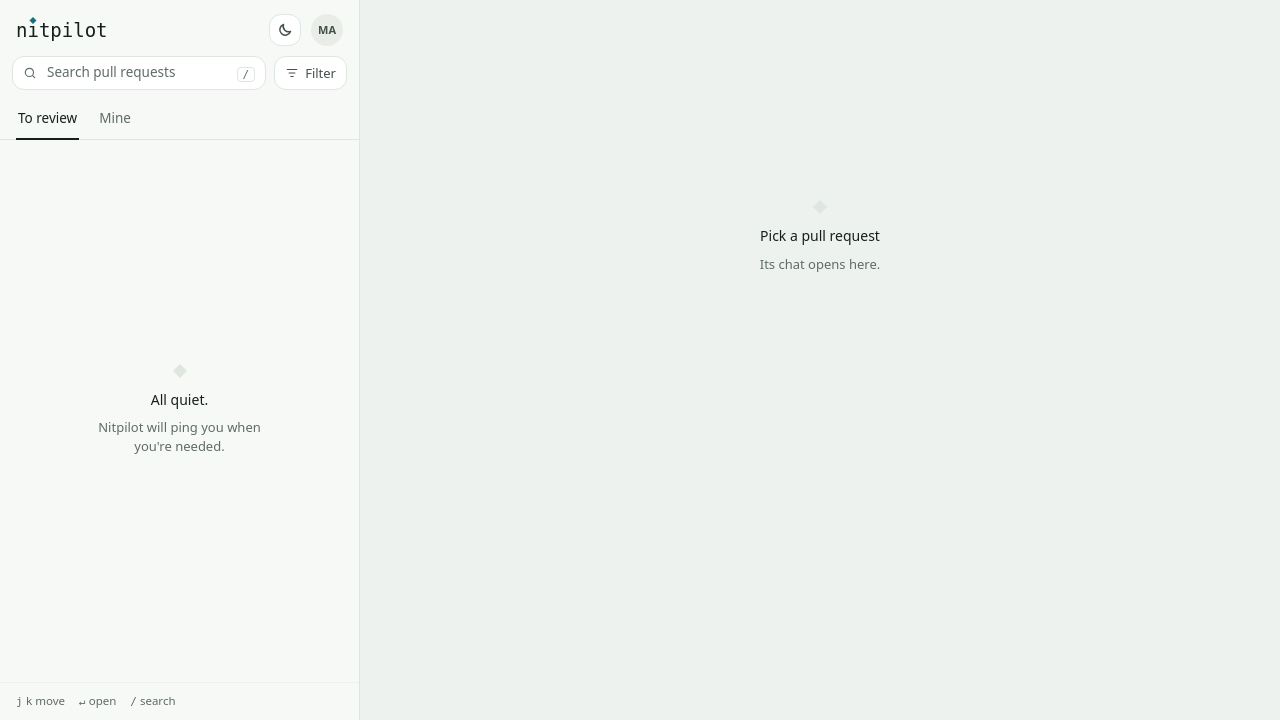
Shell (handoff "App shell and layout") › opens Settings from your avatar, as a page of its own (no inbox beside it), with Sign out
Click the link with aria-label "Settings · maya".
click(327, 30)  # box left=311, top=14, right=343, bottom=46
(page scrolled)
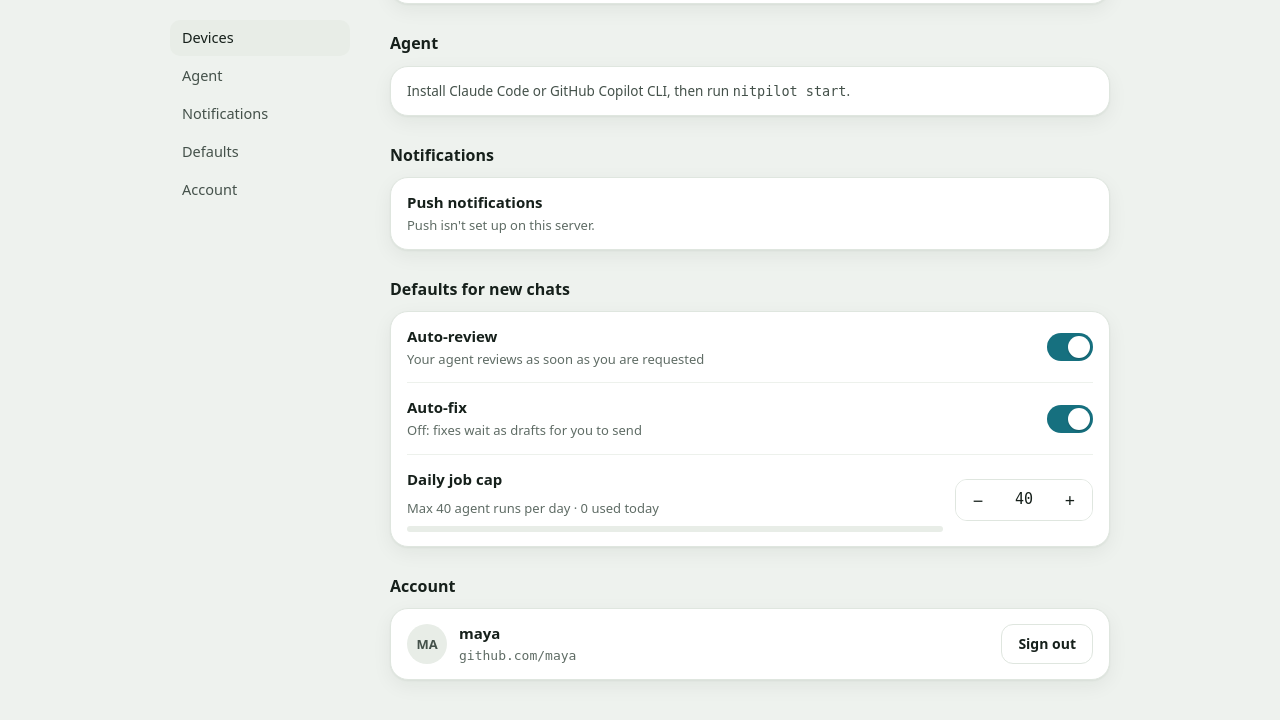
Expected: the element "Inbox" is gone
Expected: the button "Sign out" is shown, left=1001, top=624, right=1093, bottom=664
